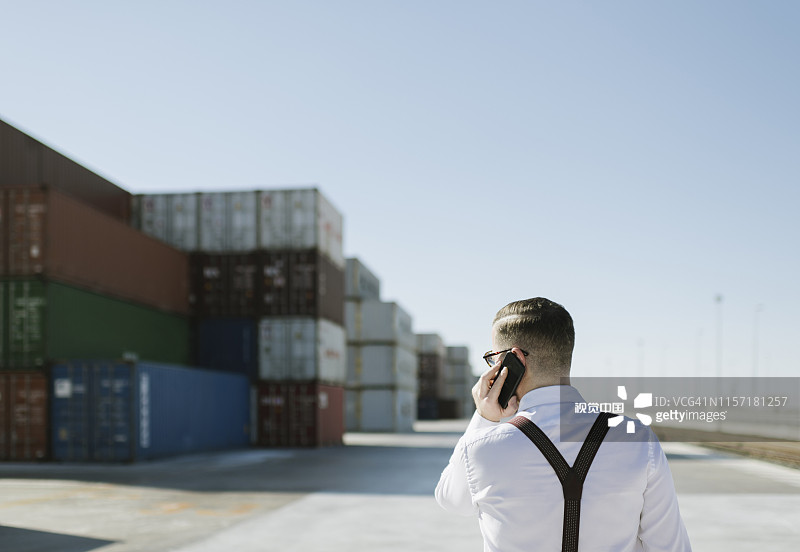calling: (456, 352, 531, 424)
